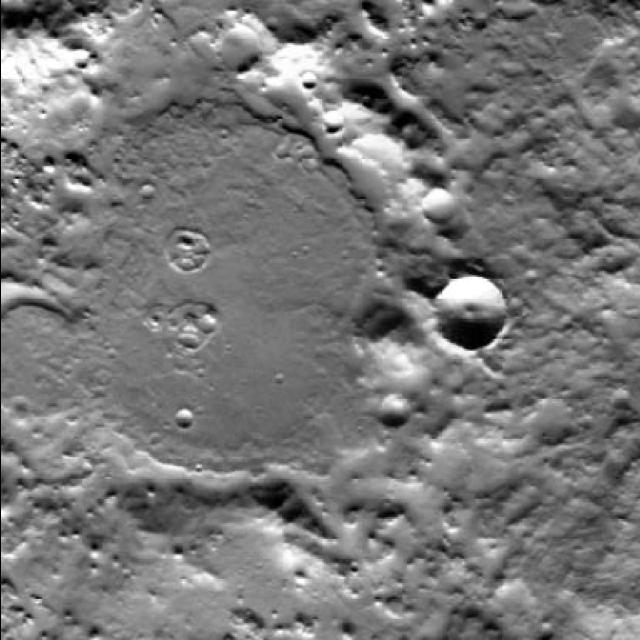crater: (0, 0, 443, 509), (0, 266, 89, 440), (433, 278, 505, 354), (522, 394, 566, 442), (375, 394, 407, 428), (320, 115, 340, 137), (174, 412, 192, 430)
